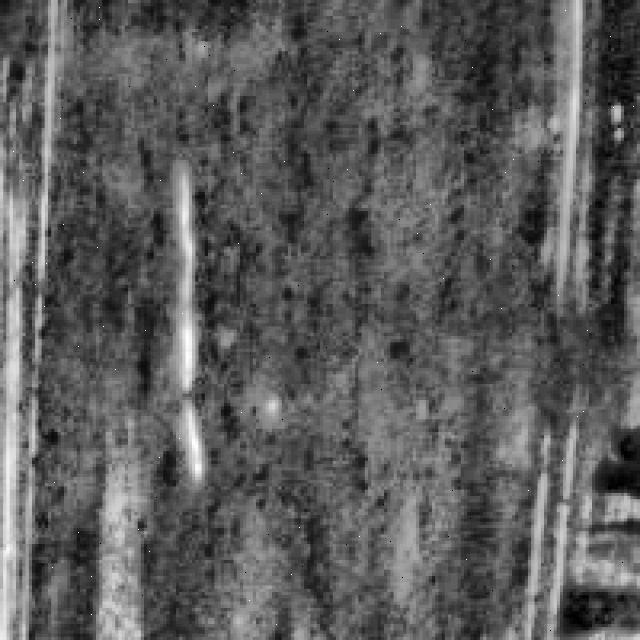Inclusion: (0, 7, 48, 586), (166, 163, 221, 493), (515, 436, 579, 630), (550, 0, 592, 272)
Patches: (554, 570, 634, 636)
